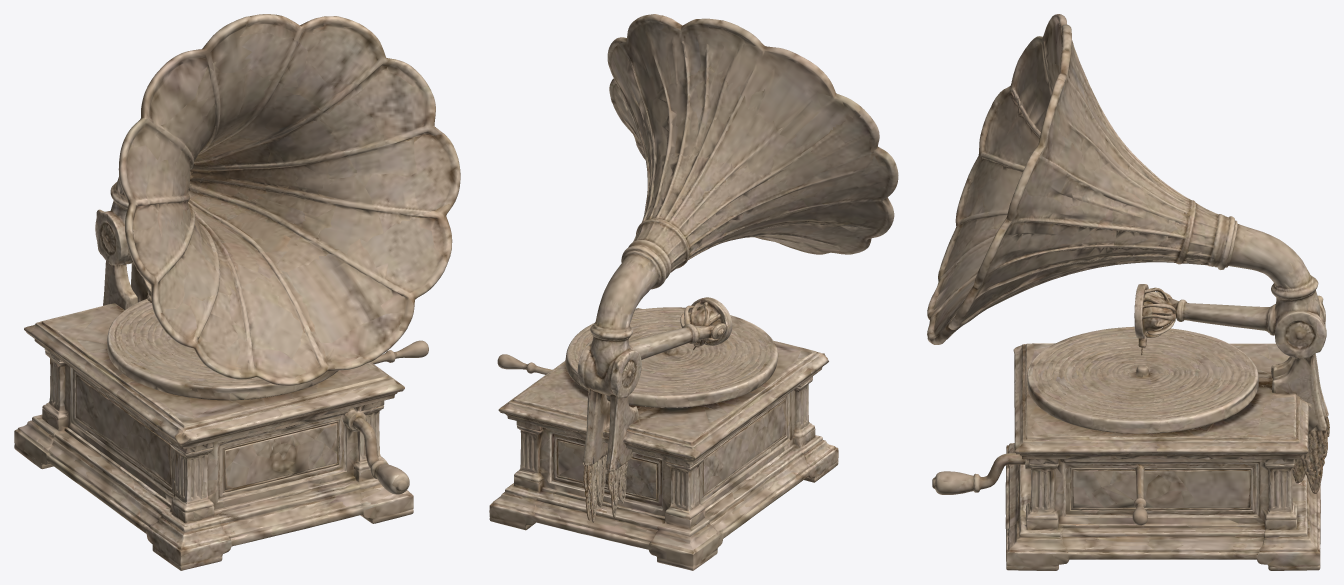
The model's file is podcast-banner.glb.
3 renders of one model, left to right at view 1: azimuth 30°, elevation 25°; view 2: azimuth 150°, elevation 25°; view 3: azimuth 270°, elevation 25°, orthographic. The views are drawn at different scales.
Bounding box in the file's own units: 1.48 × 1.9 × 1.45.
Materials: 1 (1 with a texture image).
